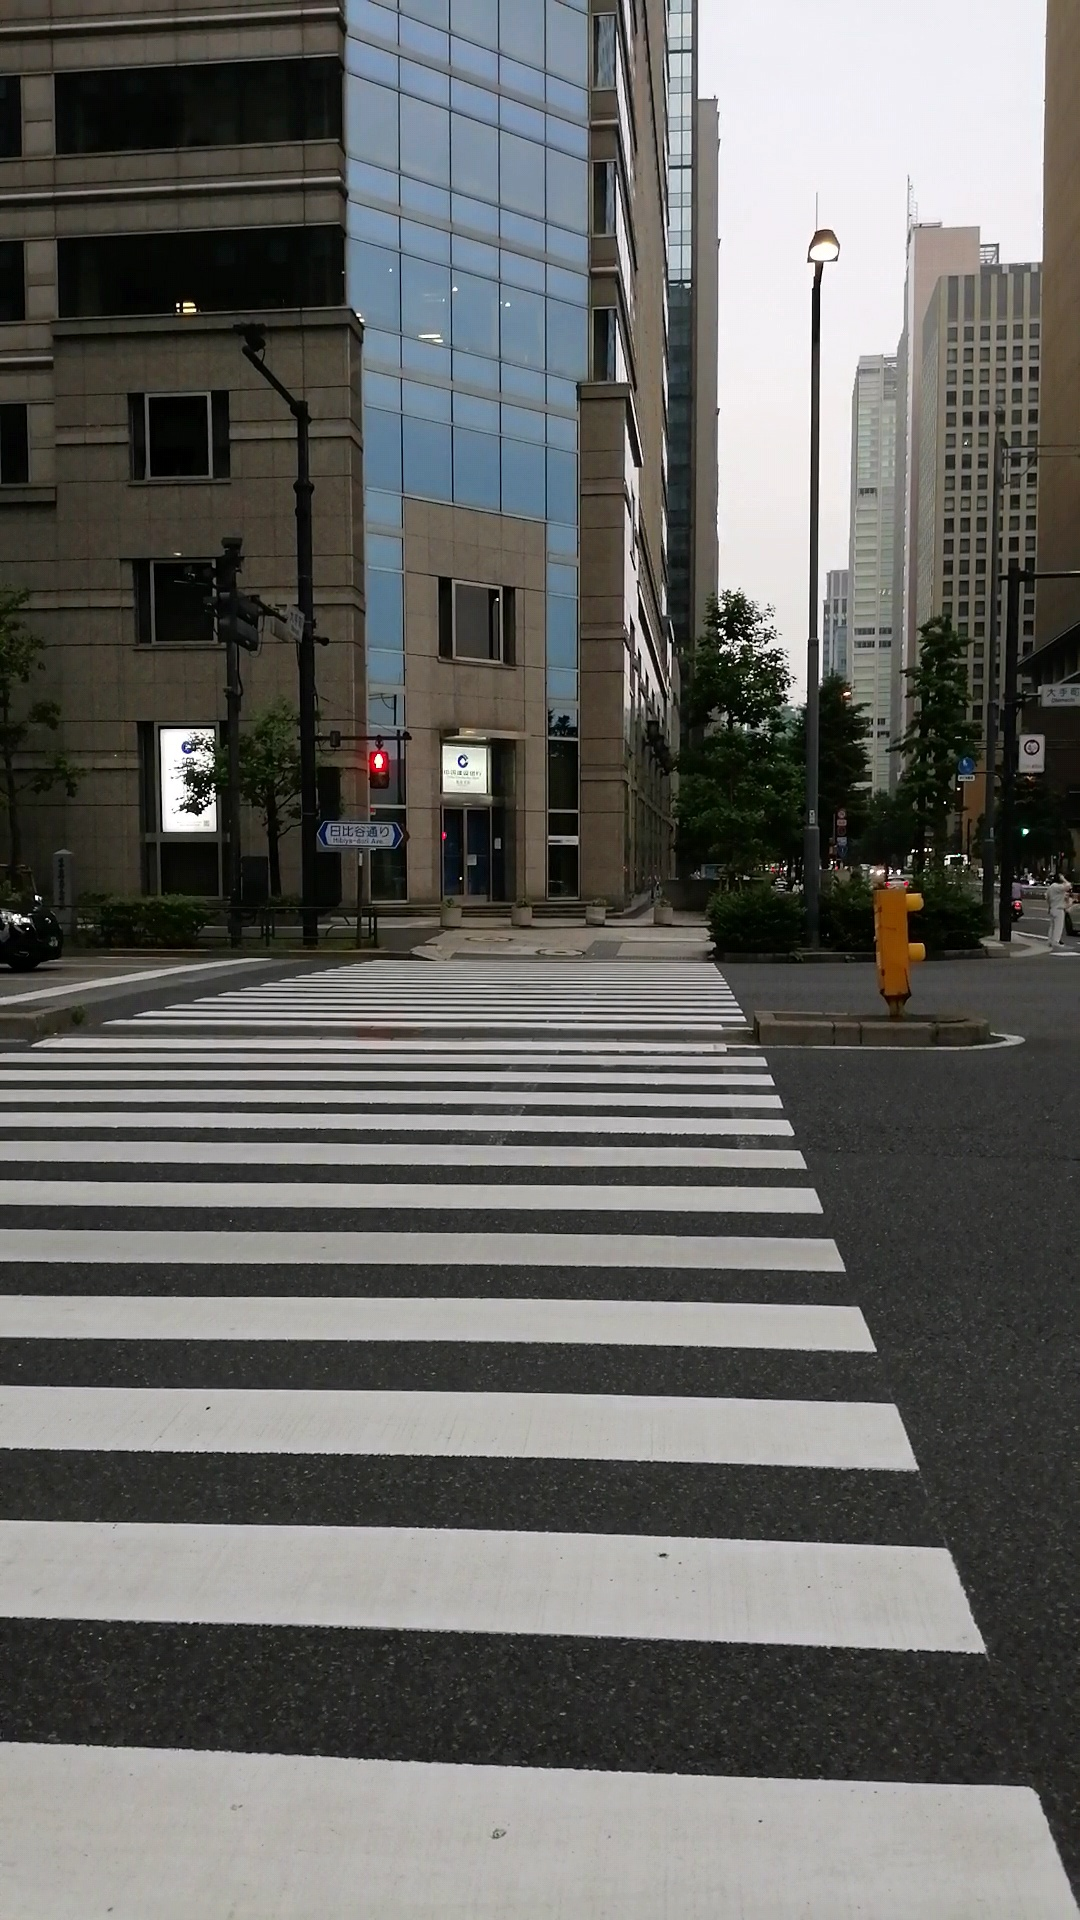red: (367, 748, 390, 793)
